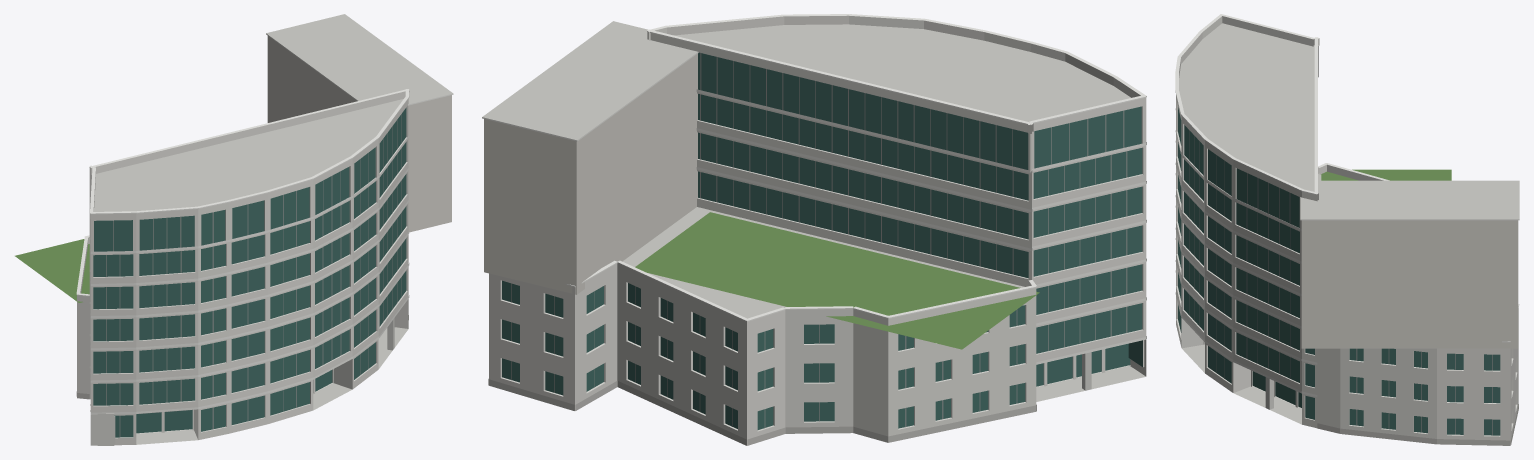
The picture shows the model from 3 angles, left to right: view 1: azimuth 30°, elevation 25°; view 2: azimuth 150°, elevation 25°; view 3: azimuth 270°, elevation 25°; orthographic projection. The views are drawn at different scales.
Visible parts, largest first — view 1: law3__glass, law3__wall, law3__roof, law3__wall2, law3__trim, law3__parapet, law3__frame, law3__lawn; view 2: law3__glass, law3__wall, law3__roof, law3__wall2, law3__lawn, law3__parapet, law3__trim, law3__frame, law3__base; view 3: law3__wall2, law3__roof, law3__wall, law3__glass, law3__trim, law3__parapet, law3__frame, law3__base, law3__lawn.
Part boxes in pixels (x1,y1,x2,y2): law3__glass: (93,108,406,437); law3__wall: (77,105,408,445); law3__roof: (94,14,452,444); law3__wall2: (267,36,451,232); law3__trim: (76,33,453,414); law3__parapet: (77,90,409,302); law3__frame: (106,113,401,437); law3__lawn: (15,239,89,302); law3__glass: (502,52,1142,429); law3__wall: (489,52,1146,445); law3__roof: (482,21,1145,401); law3__wall2: (484,53,697,294); law3__lawn: (635,212,1039,349); law3__parapet: (572,15,1146,328); law3__trim: (482,14,1146,364); law3__frame: (511,53,1127,427); law3__base: (488,378,1036,445); law3__wall2: (1301,220,1518,348); law3__roof: (1179,23,1519,424); law3__wall: (1176,46,1518,444); law3__glass: (1178,107,1500,435); law3__trim: (1175,14,1519,396); law3__parapet: (1176,16,1518,311); law3__frame: (1189,130,1492,435); law3__base: (1317,404,1518,445); law3__lawn: (1321,169,1451,180).
Bounding box in the file's own units: 47.15 × 26 × 34.61.
